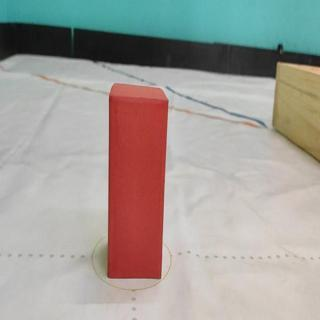redbox: (108, 82, 169, 280)
